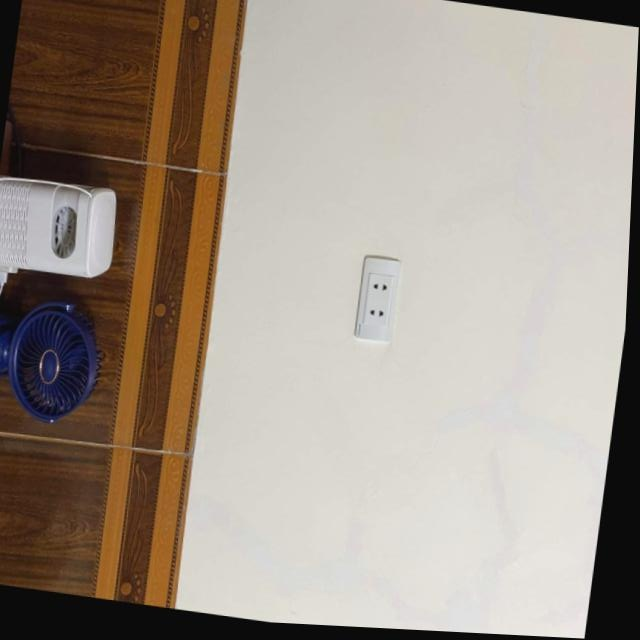outlet: (354, 253, 404, 344)
